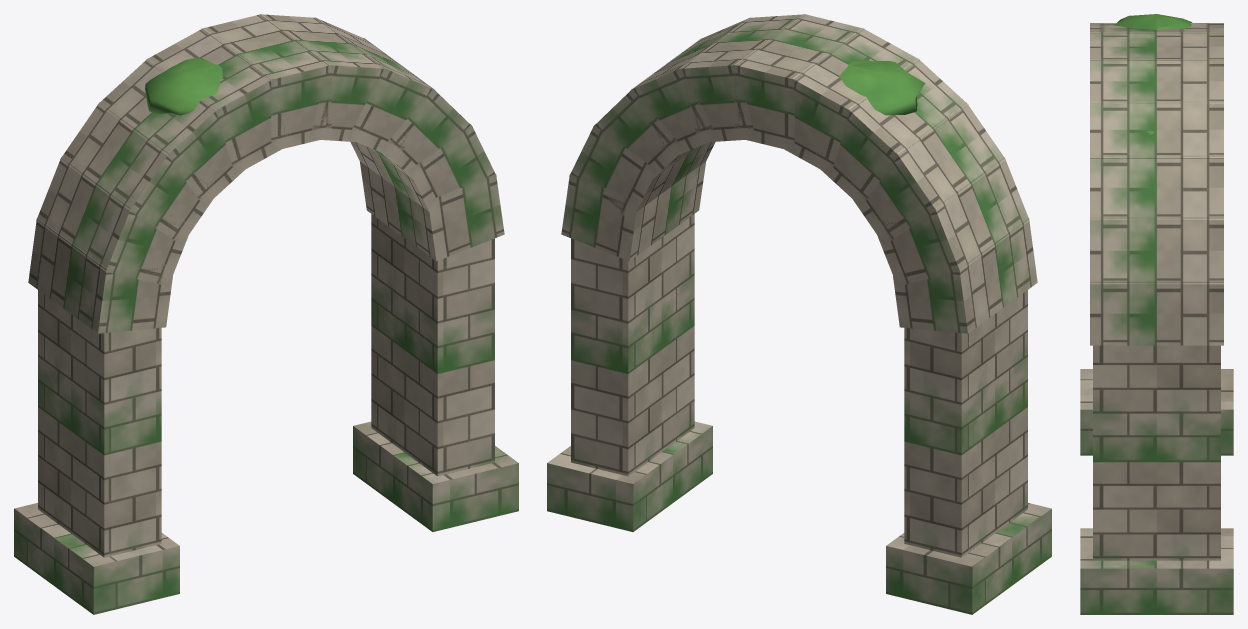
File: ruin_arch.glb
3 views of the same model, side by side, from view 1: azimuth 30°, elevation 25°; view 2: azimuth 150°, elevation 25°; view 3: azimuth 270°, elevation 25° (orthographic). The views are drawn at different scales.
Visible parts, largest first — view 1: ruin_arch; view 2: ruin_arch; view 3: ruin_arch.
Boxes of the visible parts, x1,y1,x2,y2 form: ruin_arch: (14, 14, 518, 614); ruin_arch: (547, 14, 1051, 614); ruin_arch: (1080, 14, 1233, 614).
Bounding box in the file's own units: 148 × 162 × 48.
Materials: 2 (2 with a texture image).
